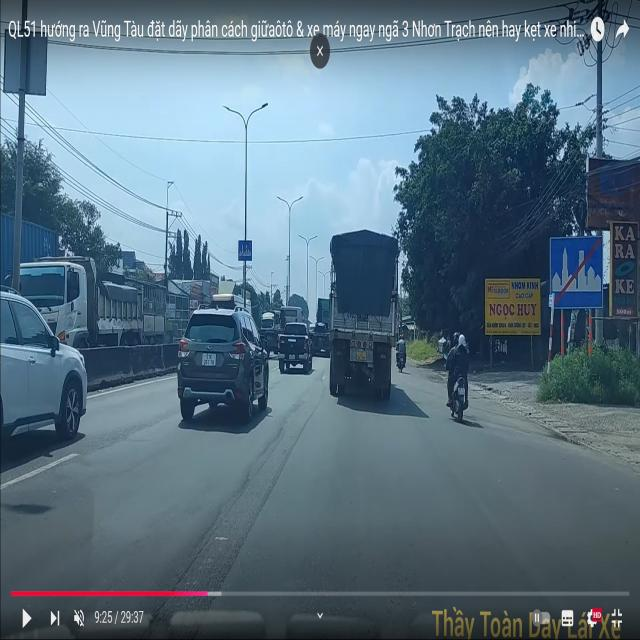Bien hieu lenh het khu dong dan cu: (548, 234, 604, 314)
